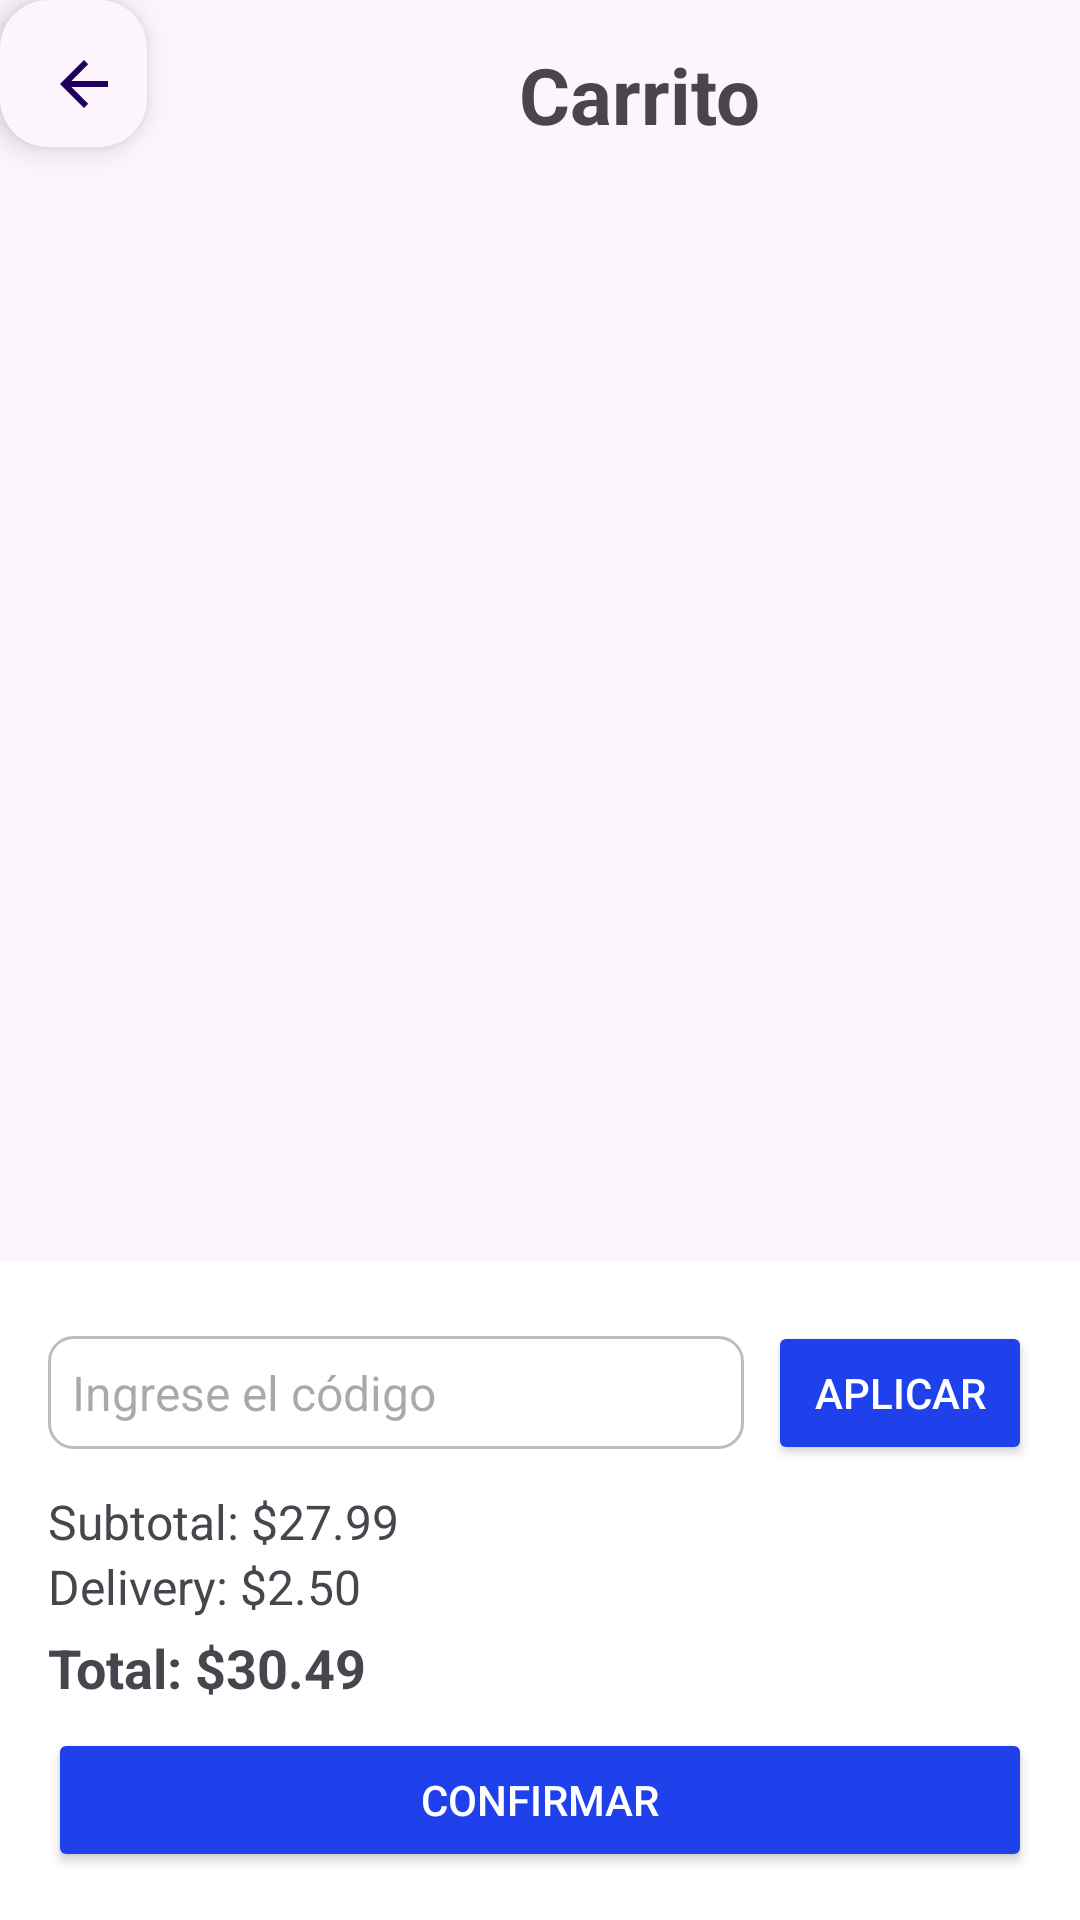

Icons on this 1080w x 1920h Android screen, each with its box as [left=x1, top=y1, right=x2, bottom=y2]:
Regresar: [left=0, top=0, right=109, bottom=147]
